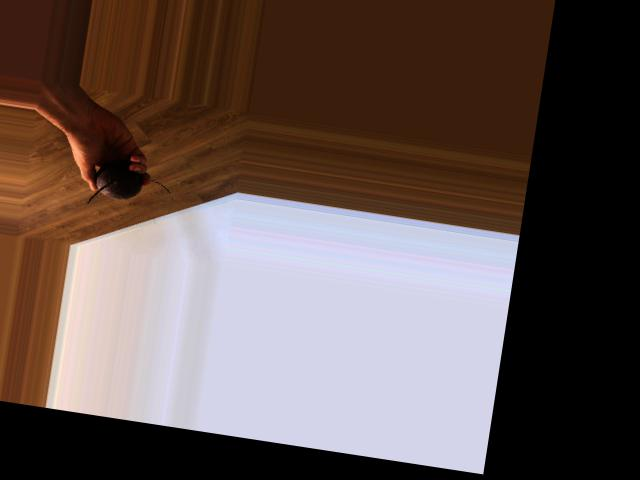beet: (87, 157, 174, 215)
